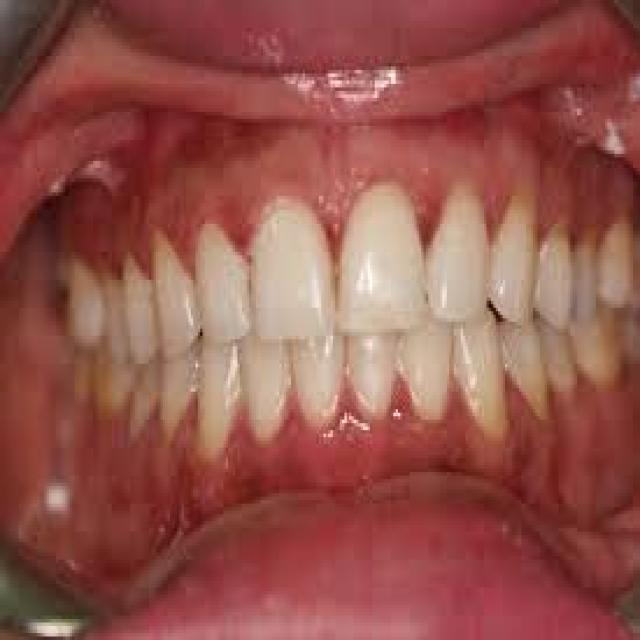tooth: (242, 189, 340, 346), (338, 165, 423, 332), (428, 172, 494, 326), (191, 210, 254, 346), (238, 315, 294, 458), (456, 300, 512, 440), (289, 311, 349, 437), (493, 172, 540, 326), (400, 301, 456, 423), (149, 220, 198, 357), (349, 311, 398, 430), (195, 328, 238, 462), (500, 311, 554, 416), (540, 206, 577, 332), (540, 311, 582, 395), (605, 203, 635, 304), (65, 259, 100, 343), (577, 210, 601, 315)
